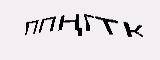Б: (74, 14, 88, 34)
Е: (35, 20, 53, 41)
О: (62, 17, 78, 40)
С: (51, 19, 65, 41)
Ш: (86, 12, 110, 37)
